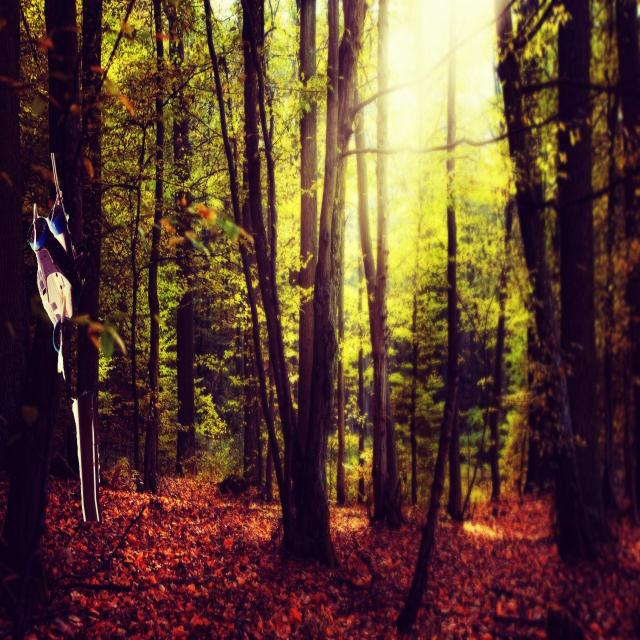airplane: (28, 150, 102, 524)
